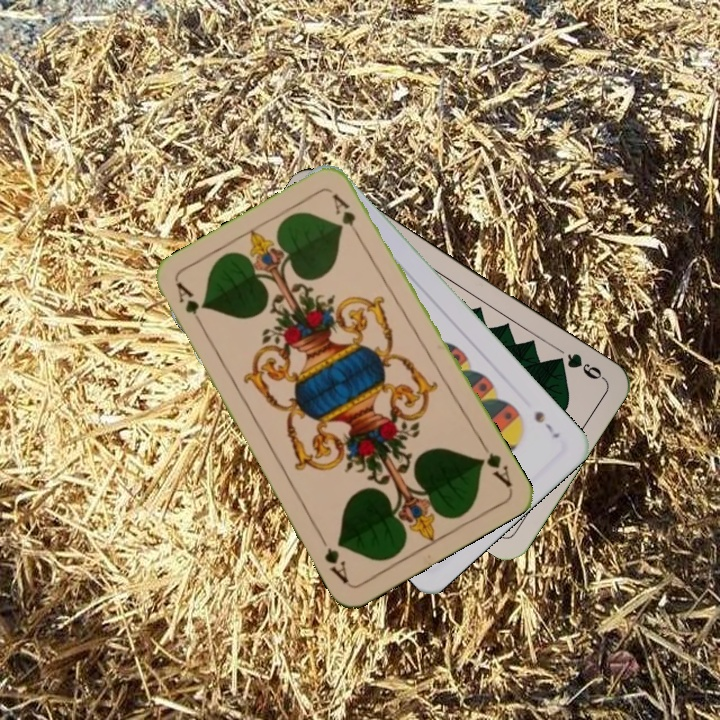G9: (549, 349, 607, 383)
GA: (475, 437, 514, 490), (172, 278, 208, 333)
S7: (530, 407, 562, 441)
